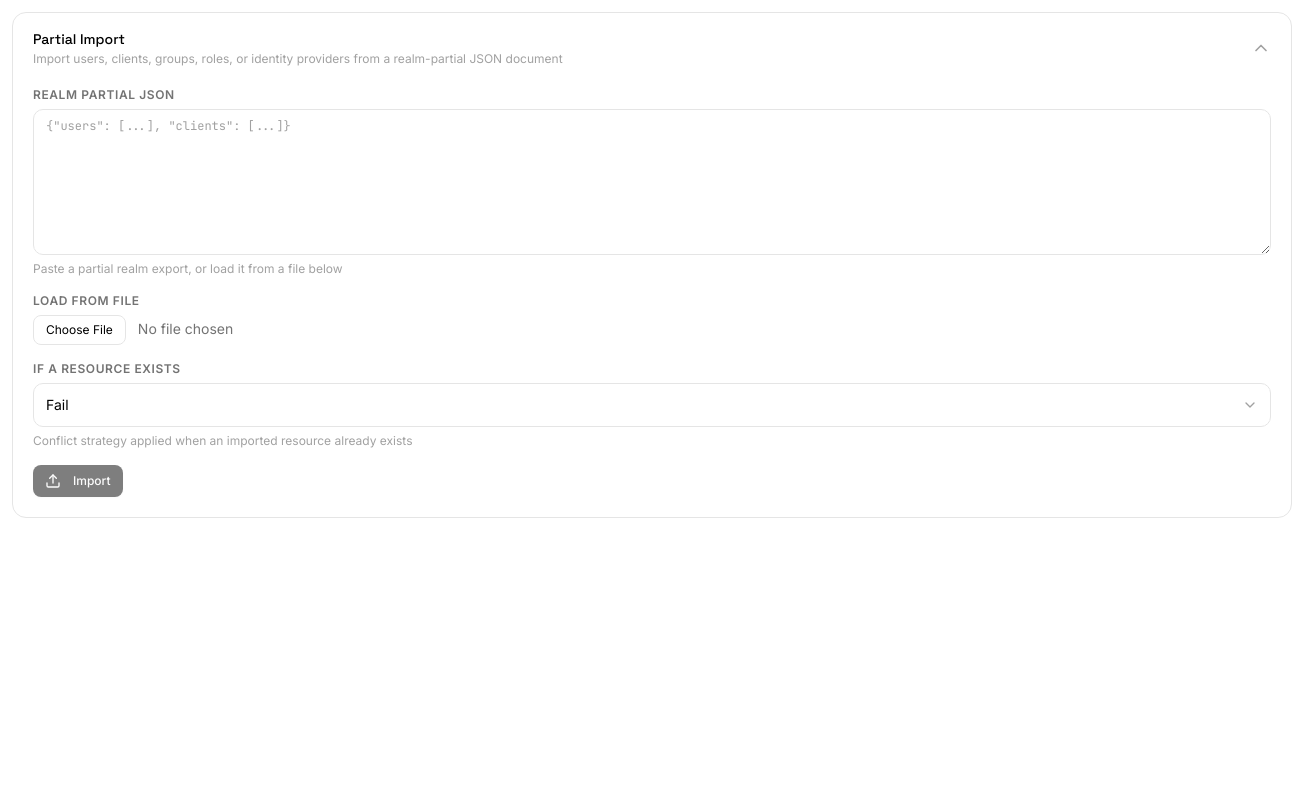
Scenario: PartialImportSection › offers the three conflict strategies with descriptions
Click the button named "If a resource exists" at (57, 404), box [33,383,1271,427]
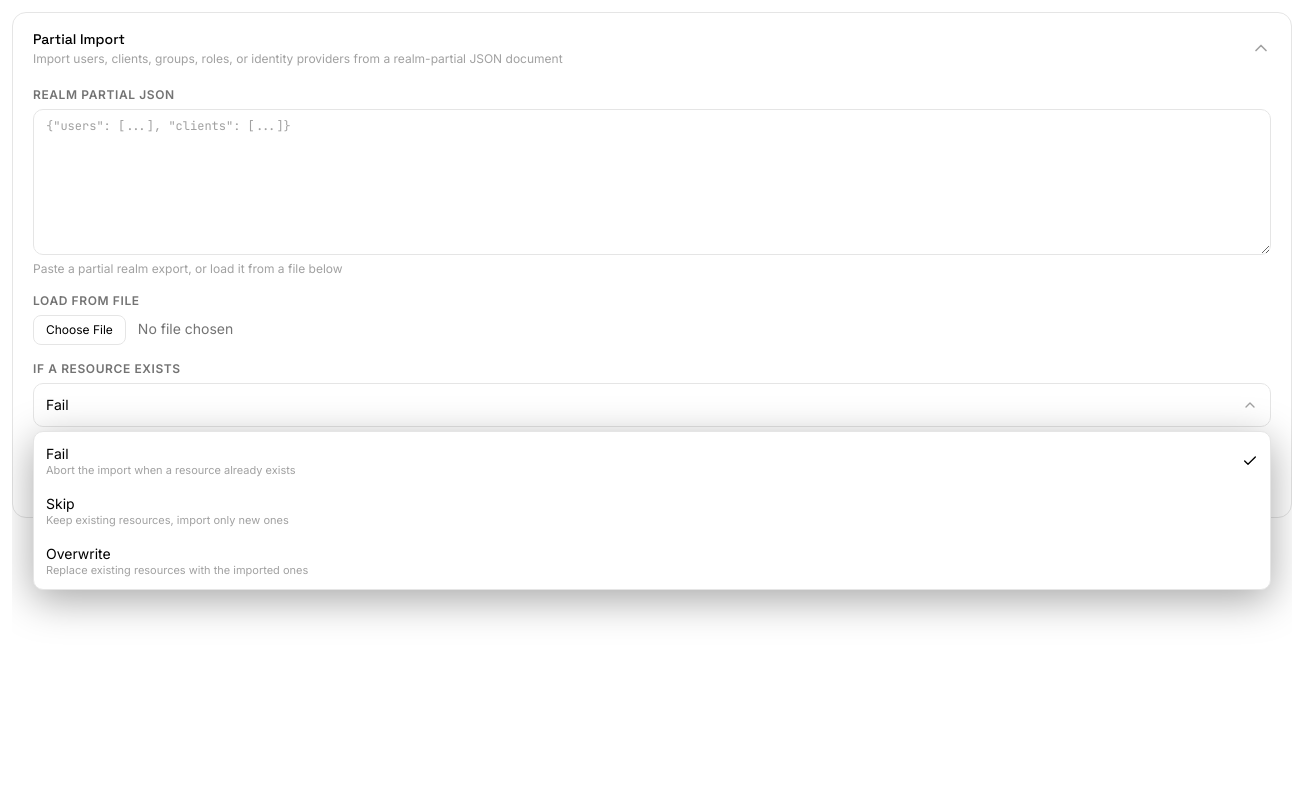
Expected: the option "Fail Abort the import when a resource already exists" is shown, [34,436,1270,486]
Expected: the option "Skip Keep existing resources, import only new ones" is shown, [46,495,289,527]
Expected: the option "Overwrite Replace existing resources with the imported ones" is shown, [46,544,308,576]
